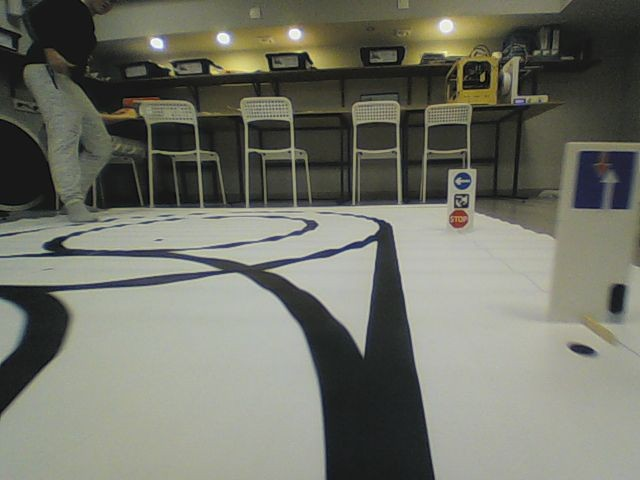Stop: (448, 208, 468, 227)
priority_movement: (569, 148, 639, 212)
